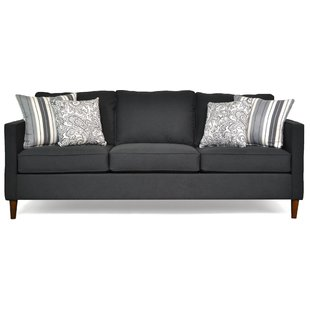chairs: (3, 87, 305, 224)
